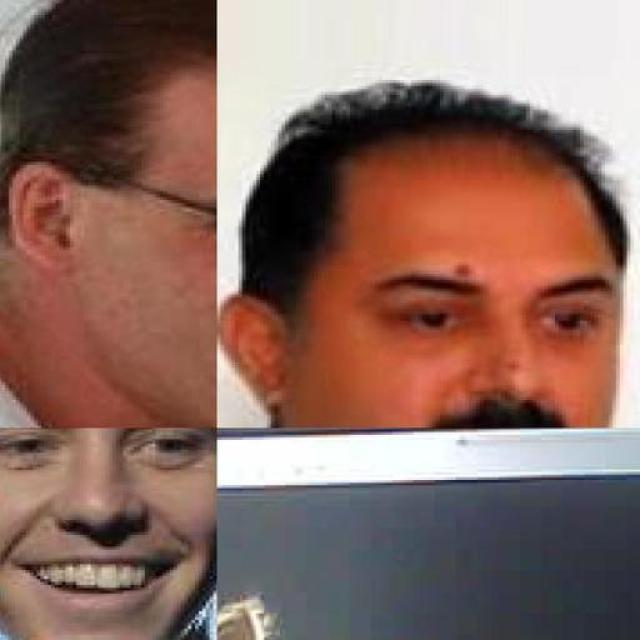bareface: (276, 135, 614, 449)
